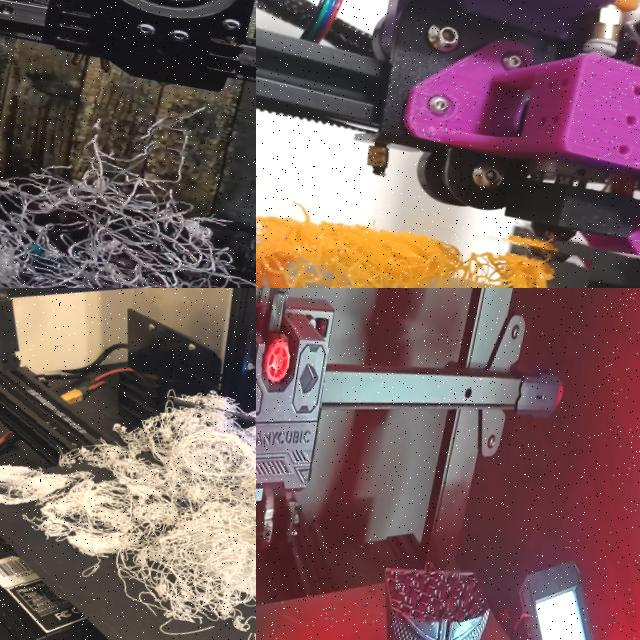spaghetti: (0, 402, 256, 633), (0, 66, 256, 288), (256, 172, 595, 288)
